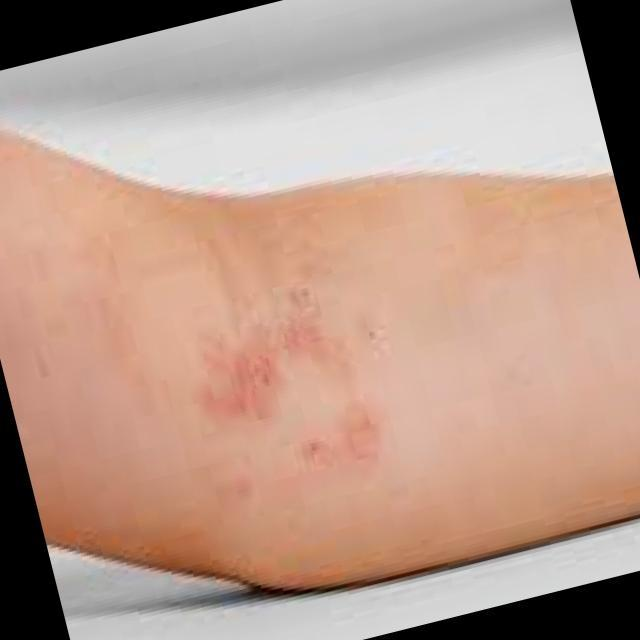Eczema: (208, 311, 376, 487)
